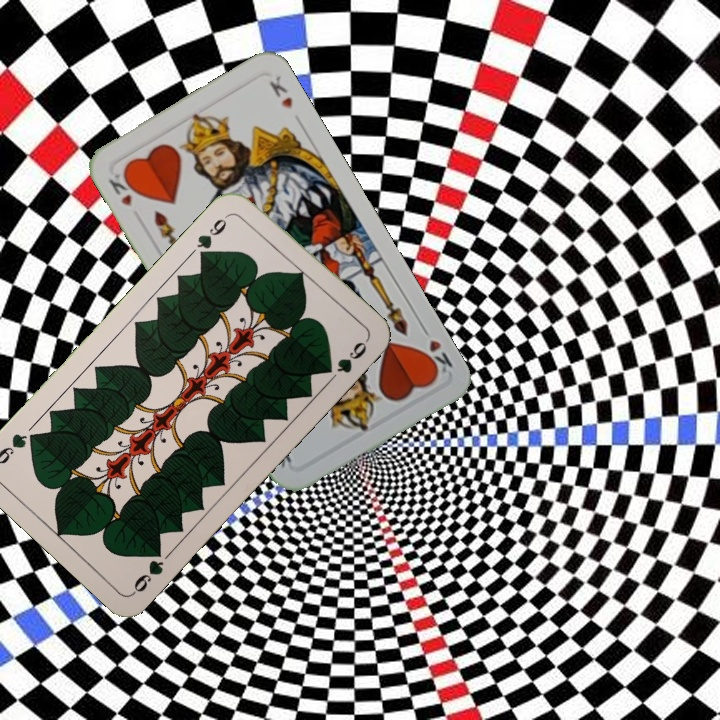G9: (193, 209, 234, 262), (129, 542, 167, 597)
HK: (417, 321, 455, 379), (104, 165, 140, 209)
